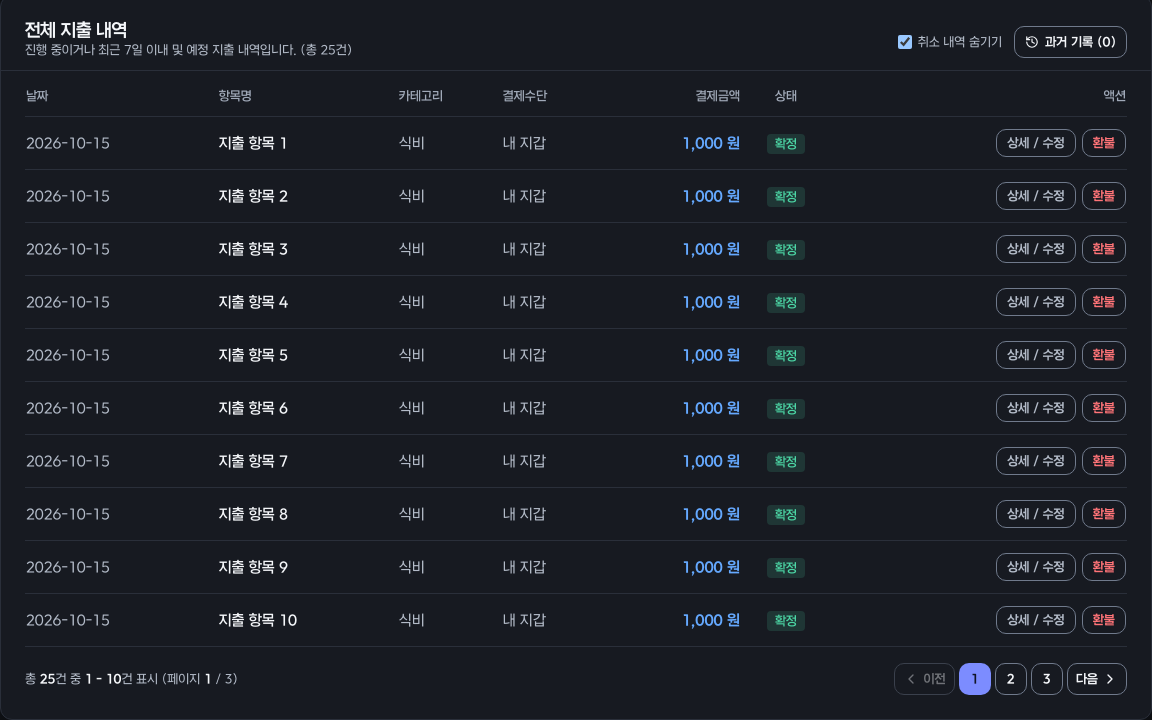
Test: ExpensesPage › 지출 내역이 10개를 초과할 경우 10개 단위로 페이지네이션이 동작한다
This screenshot has width=1152, height=720.
(page scrolled)
Expected: the text "지출 항목 1" is shown, x1=219 y1=133 x2=288 y2=153
Expected: the text "지출 항목 10" is shown, x1=219 y1=610 x2=297 y2=630
2페이지 버튼 클릭
Click the button named "2 페이지로 이동": (1011, 679) x1=995 y1=663 x2=1027 y2=695
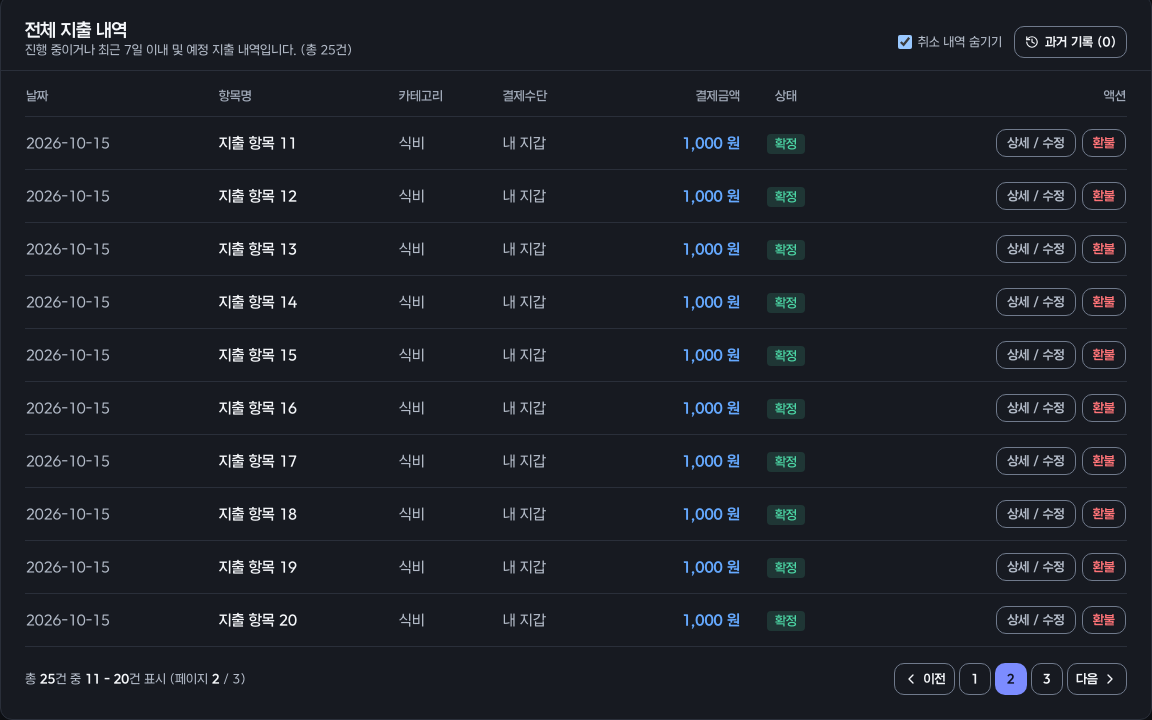
Now the text "지출 항목 11" is shown, box x1=219 y1=133 x2=297 y2=153
Now the text "지출 항목 20" is shown, box x1=219 y1=610 x2=297 y2=630
Now the element with test id "pagination-info" shows "총 25건 중 11 - 20건 표시", box x1=25 y1=671 x2=246 y2=687
이전 버튼 클릭 시 1페이지로 복귀
Click the button with aria-label "이전 페이지": (925, 679) x1=894 y1=663 x2=955 y2=695
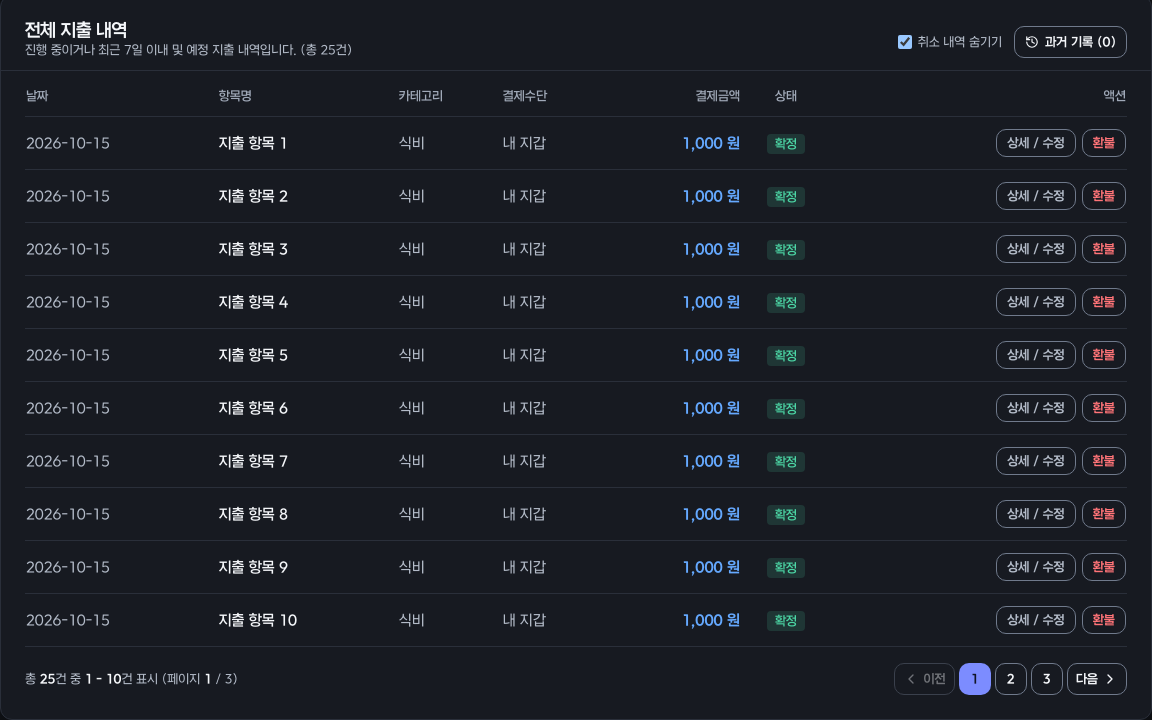
Expected: the text "지출 항목 1" is shown, x1=219 y1=133 x2=288 y2=153
Now the text "지출 항목 11" is not shown
